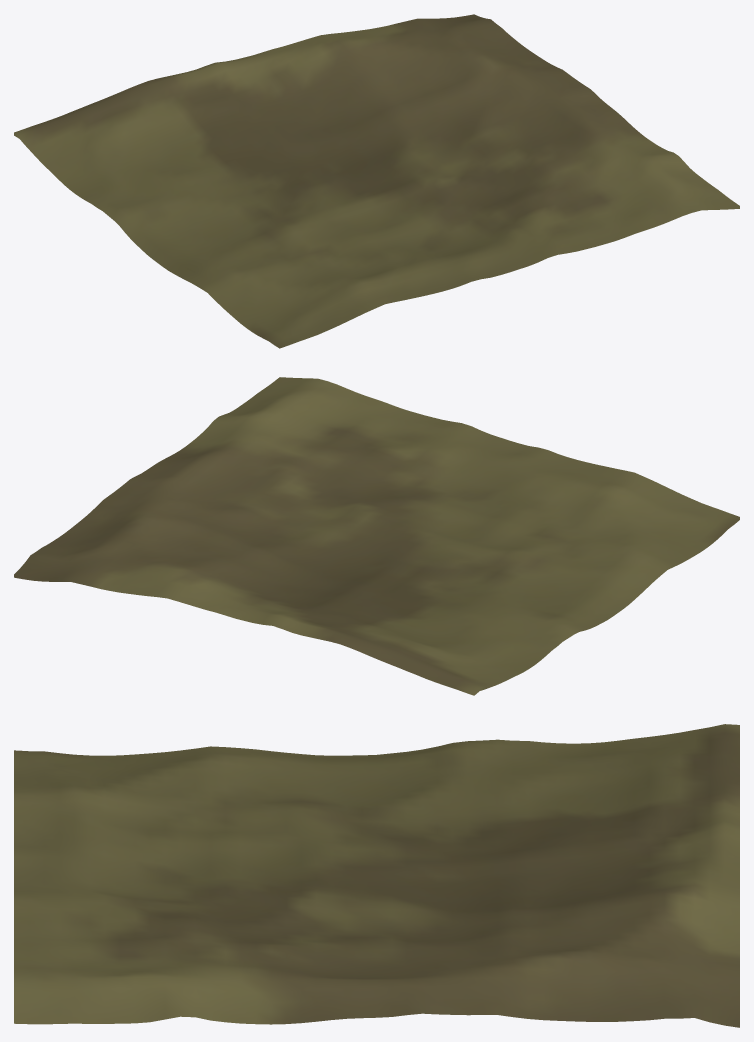
The model's file is land_m_10_00.glb.
3 views of the same model, one above another, from view 1: azimuth 30°, elevation 25°; view 2: azimuth 150°, elevation 25°; view 3: azimuth 270°, elevation 25° (orthographic). The views are drawn at different scales.
Visible parts, largest first — view 1: land_m_10_00; view 2: land_m_10_00; view 3: land_m_10_00.
Part boxes in pixels (left/top/right/bottom): land_m_10_00: left=14, top=14, right=739, bottom=348; land_m_10_00: left=14, top=377, right=739, bottom=695; land_m_10_00: left=14, top=724, right=739, bottom=1027.
Size of the model in its own units: 960 by 109 by 960.
